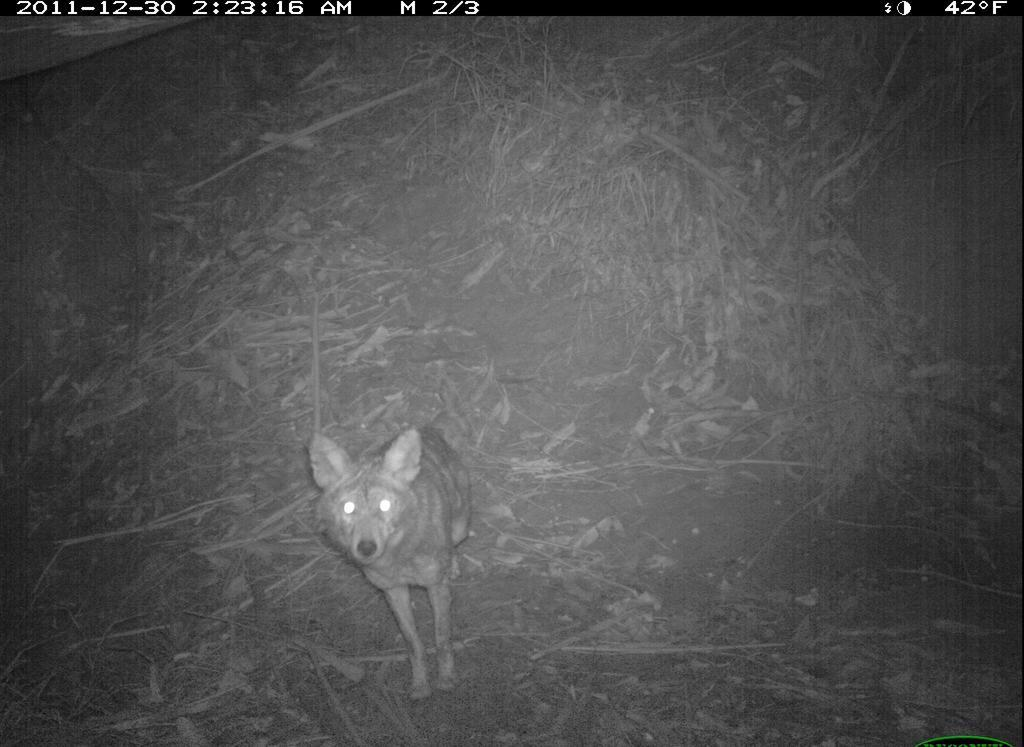coyote: (300, 383, 504, 715)
